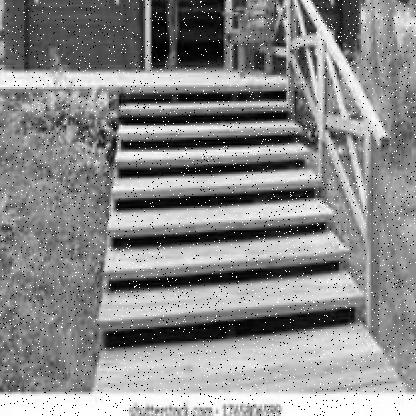stair_up: (82, 160, 366, 317)
